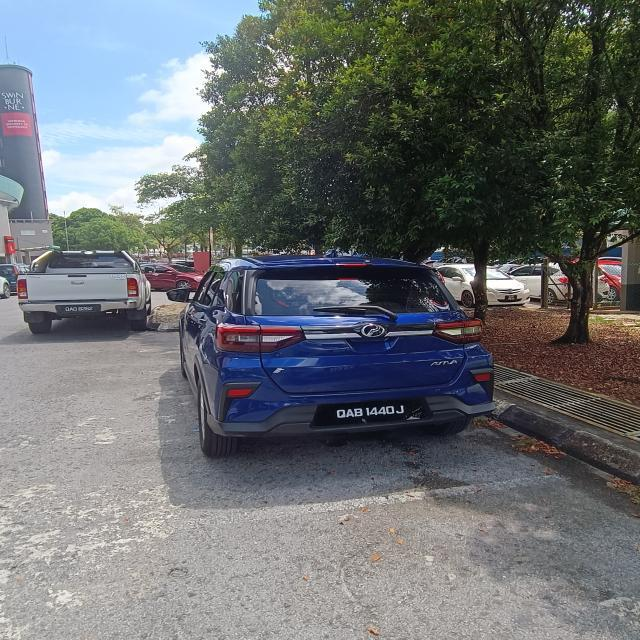PeroduaAtiva: (166, 253, 497, 458)
